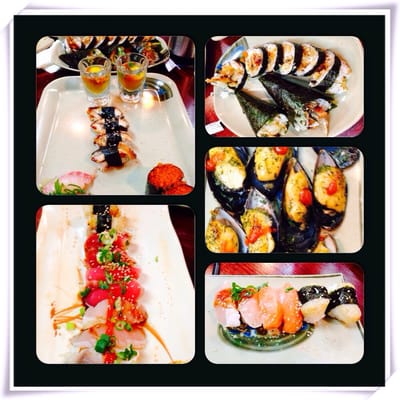pizza: (116, 52, 148, 103), (78, 56, 111, 100)
sushi: (204, 145, 365, 257)
